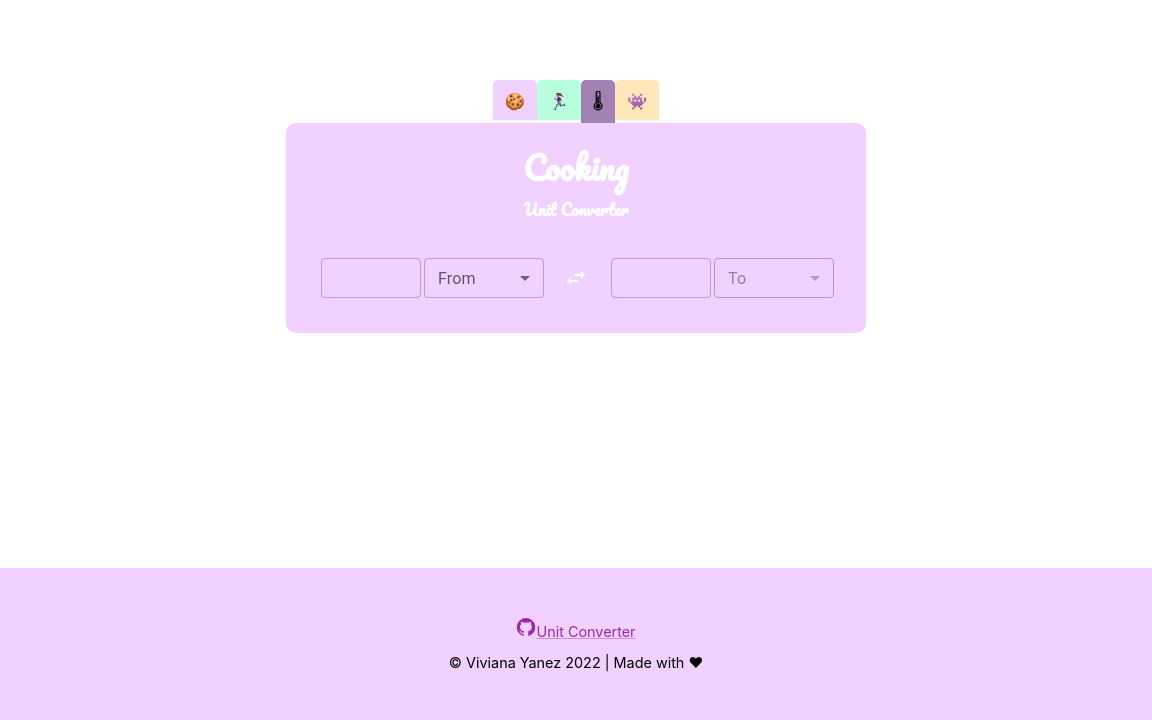
Test: Tab Group › should render select inputs and get results
Expected: the element with test id "To" is disabled, [714,258,834,298]
Replace the text in the field with test id "From" with "cup" at (484, 278), box [424,258,544,298]
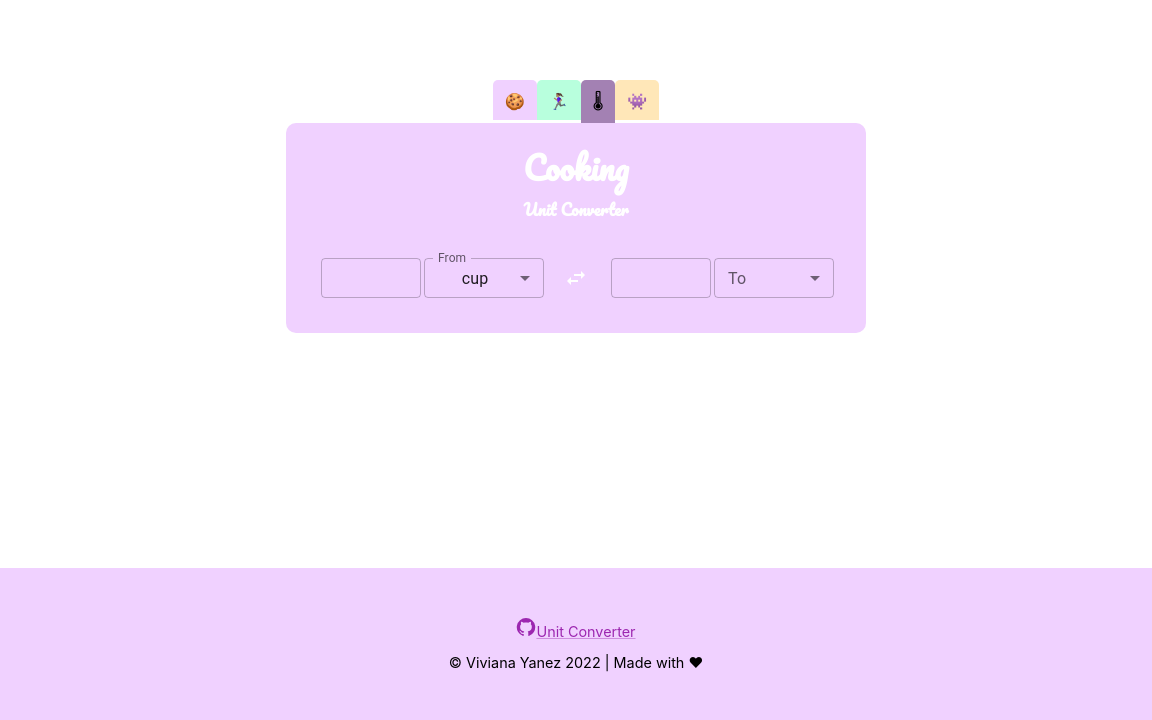
Expected: the element with test id "To" is enabled, [714,258,834,298]
should get results when second select is selected
Type "2" into the number field with test id "number" at (371, 278), box [321,258,421,298]
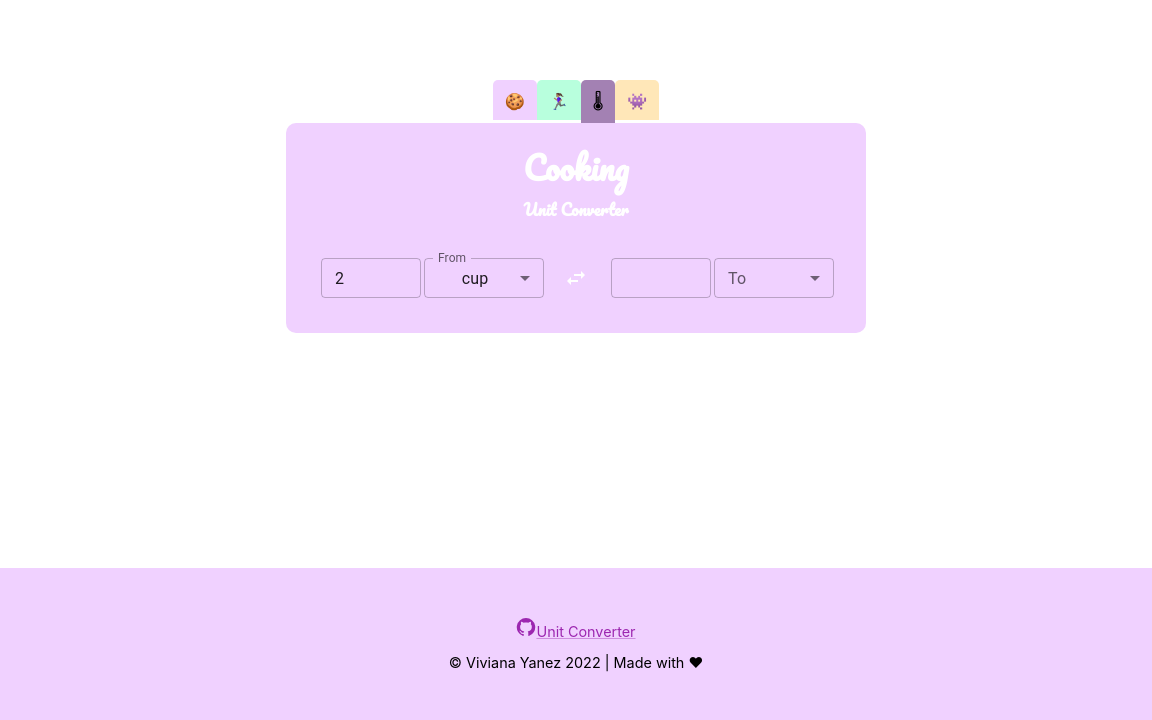
Expected: the field with test id "text" is empty, [611,258,711,298]
Replace the text in the field with test id "To" with "kilo" at (774, 278), box [714,258,834,298]
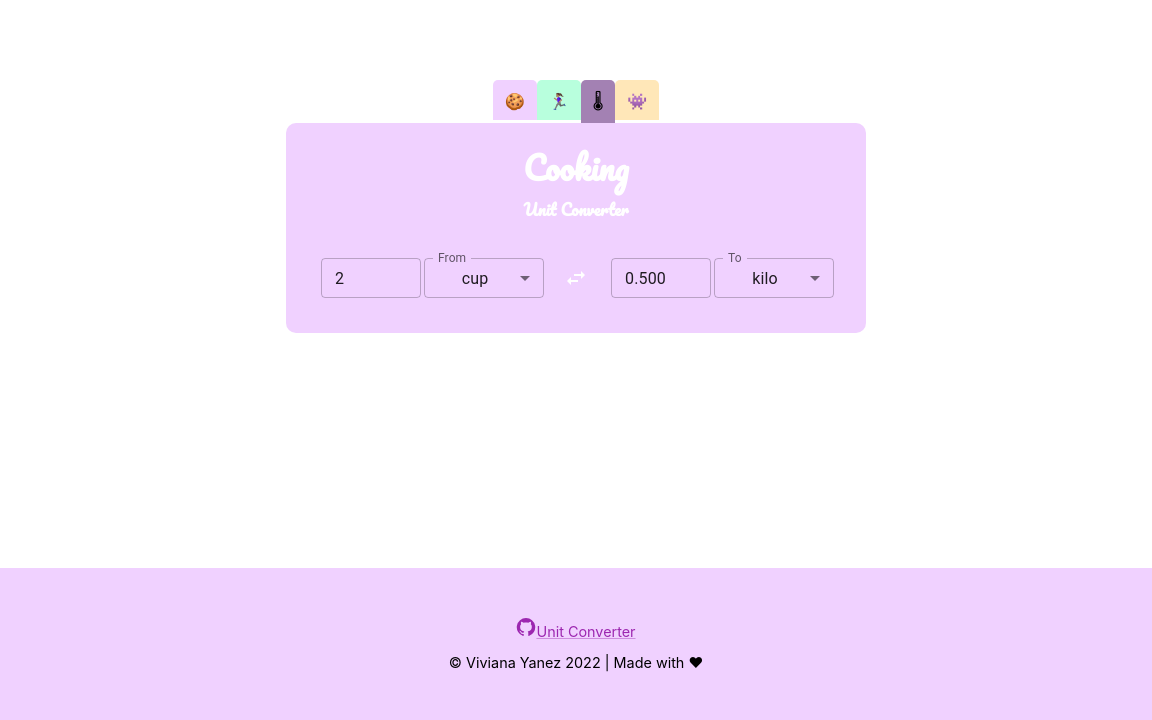
Result: the field with test id "text" holds "0.500" at [611,258,711,298]
